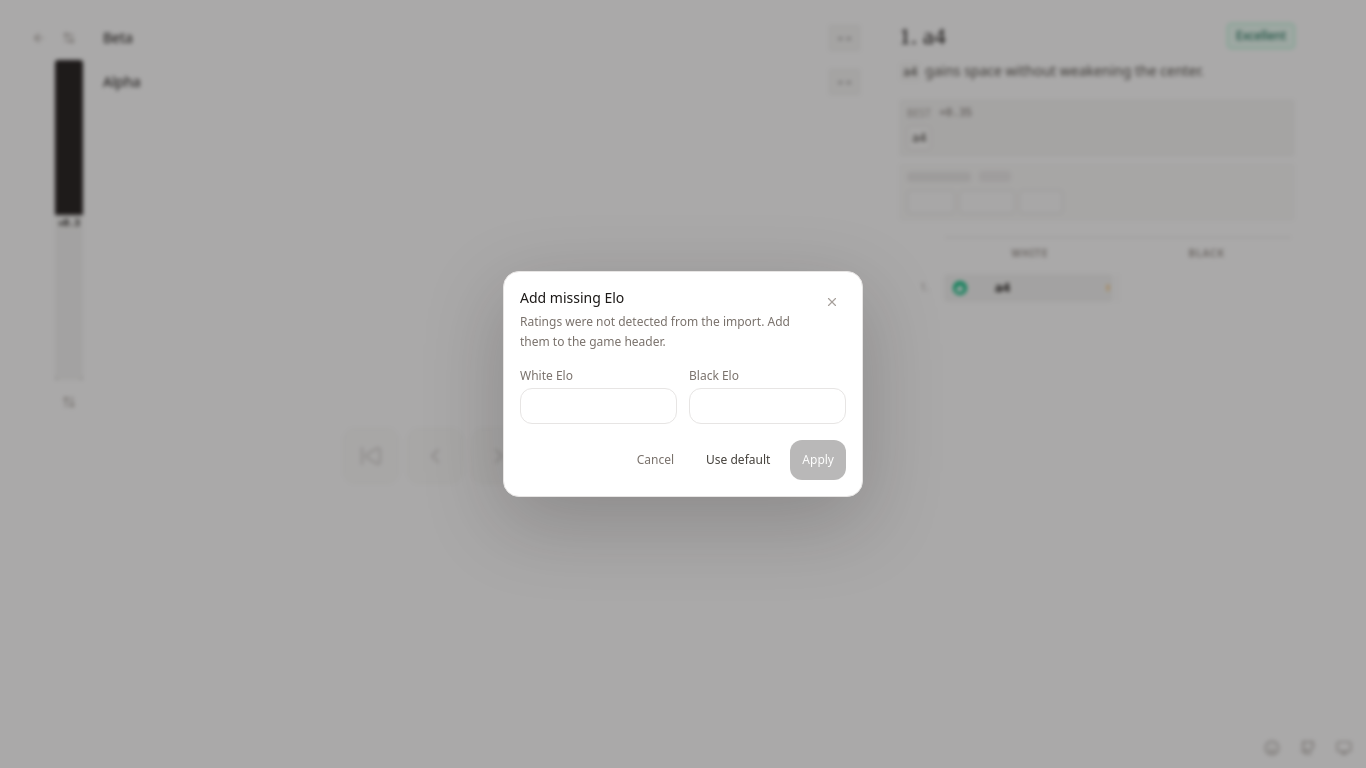
Test: AnalysisWorkspace imports › prompts for missing Elo and applies it to the player headers
This screenshot has width=1366, height=768.
Type "1725" into the number field labelled "White Elo" at (598, 406), box [520,388,677,424]
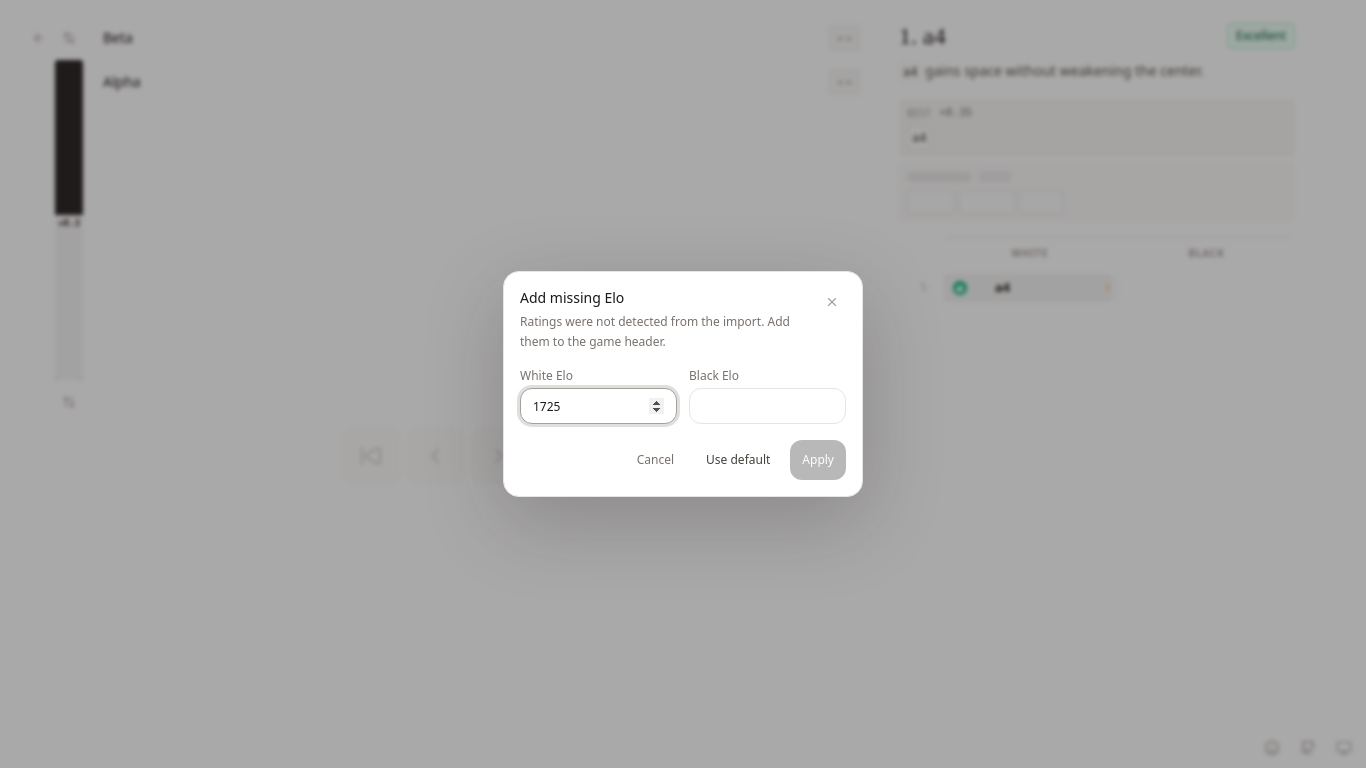
Type "1680" into the number field labelled "Black Elo" at (768, 406), box [689,388,846,424]
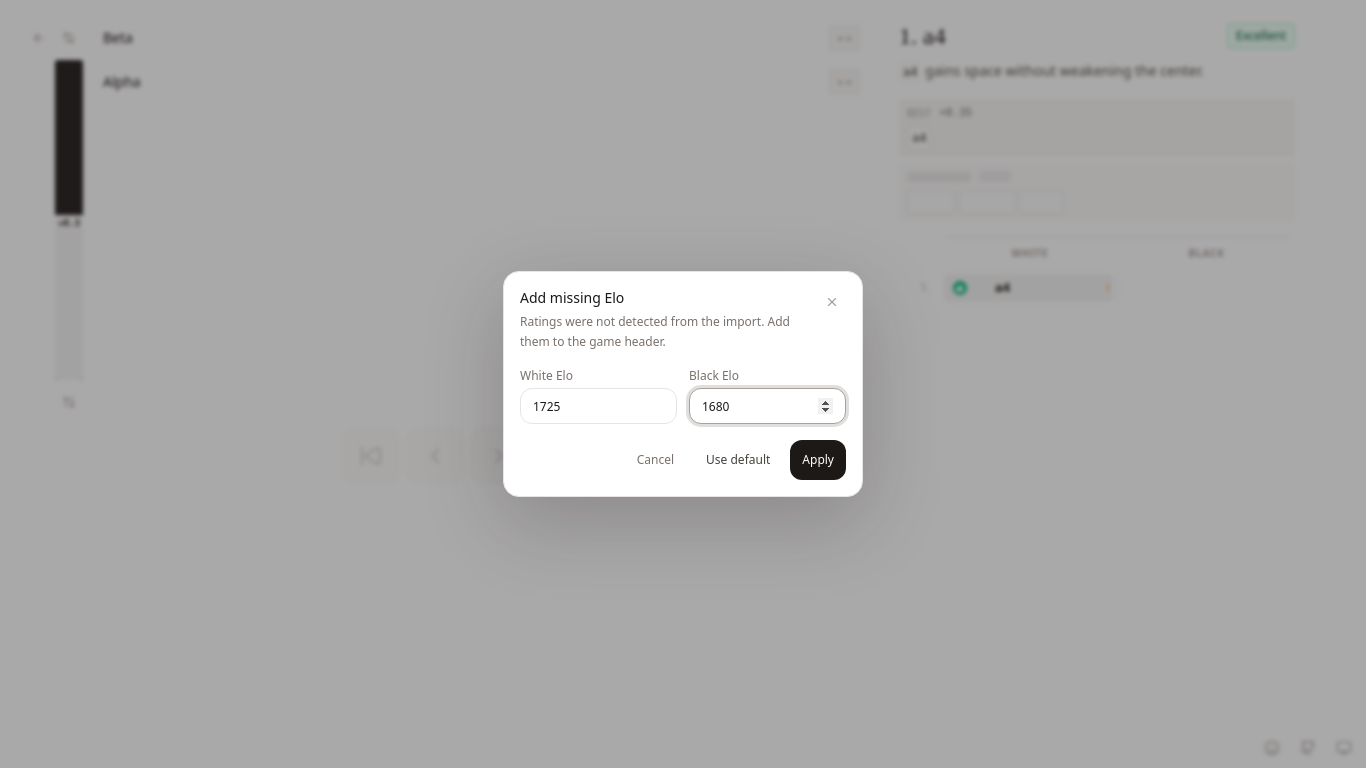
Click the button "Apply" at (818, 460), box [790,440,846,480]
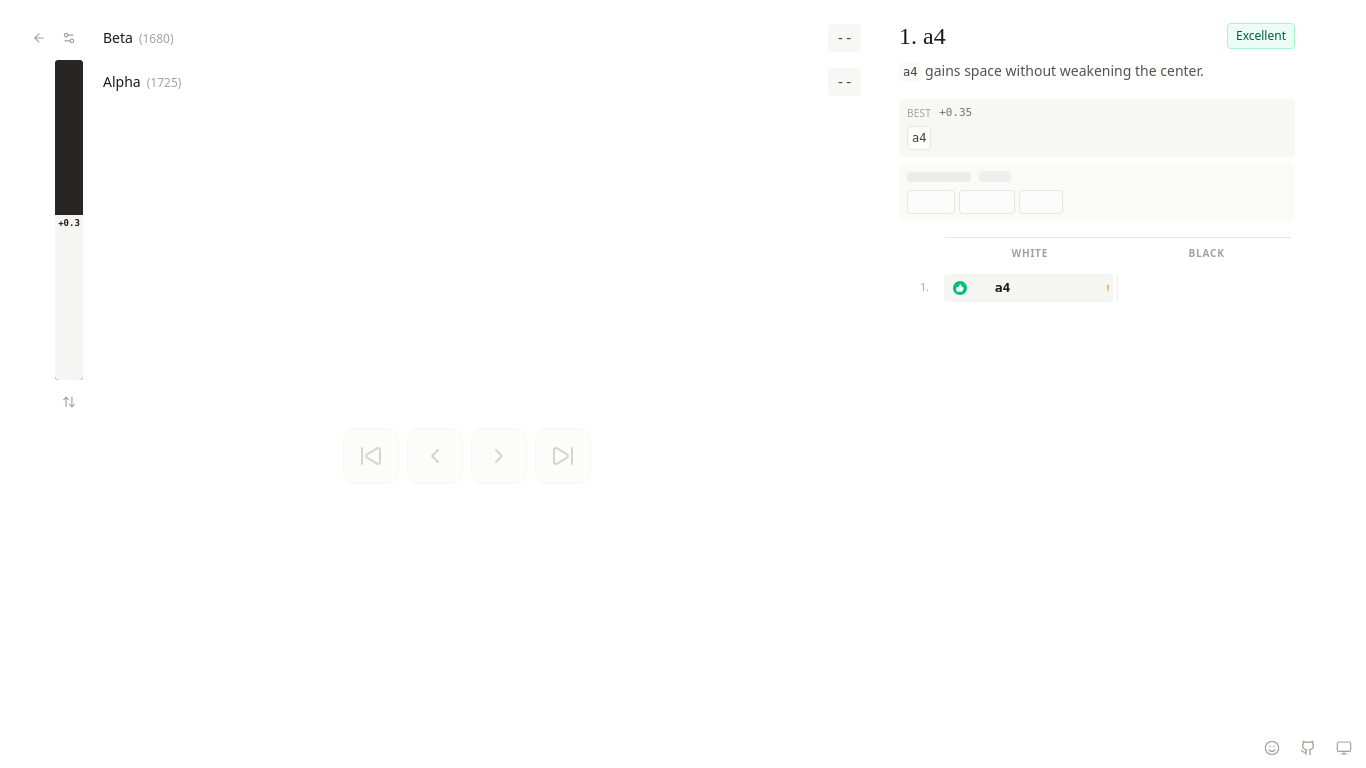
Result: the dialog is gone
Result: the text "(1725)" is shown at [147,75,181,91]
Result: the text "(1680)" is shown at [139,31,174,47]
